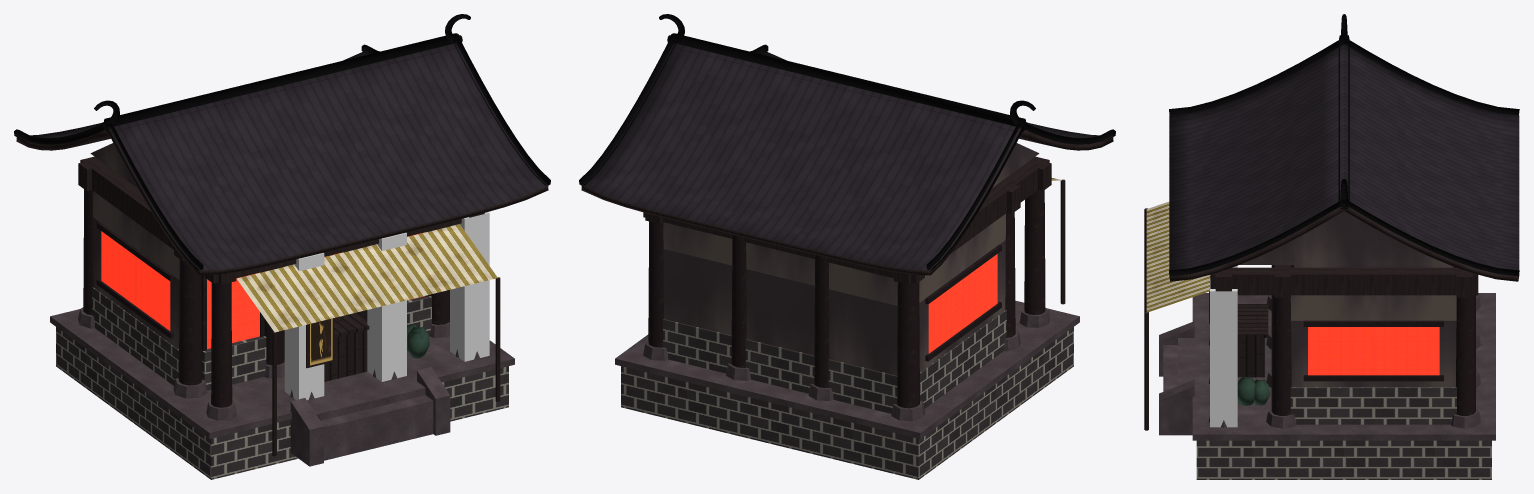
Rendered from shadow_stall.glb.
3 views of the same model, side by side, from view 1: azimuth 30°, elevation 25°; view 2: azimuth 150°, elevation 25°; view 3: azimuth 270°, elevation 25° (orthographic). The views are drawn at different scales.
Visible parts, largest first — view 1: Shop31Roof, Awning, Shop31PodiumBase, Shop31PodiumCap, Shop31Columns, Shop31RoofRidge, Shop31Stairsfront, Shop31Dado, Shop31Lattice, Shop31Beams, Shop31Walls, Shop31VCol-convcolonly.003 (+10 smaller); view 2: Shop31Roof, Shop31Walls, Shop31PodiumBase, Shop31Columns, Shop31Dado, Shop31PodiumCap, Shop31RoofRidge, Shop31Beams, Shop31Lattice, Shop31ColumnBases, Shop31Frames, AwningPoles (+1 smaller); view 3: Shop31Roof, Shop31PodiumBase, Shop31PodiumCap, Shop31Walls, Shop31Beams, Shop31Lattice, Shop31Dado, Shop31RoofRidge, Shop31Gables, Shop31Columns, Shop31VCol-convcolonly.003, Awning (+7 smaller).
Part boxes in pixels (box(x1,y1,x2,y2)): Shop31Roof: box(16, 43, 548, 275); Awning: box(237, 224, 497, 332); Shop31PodiumBase: box(56, 327, 508, 479); Shop31PodiumCap: box(50, 309, 514, 438); Shop31Columns: box(83, 189, 449, 407); Shop31RoofRidge: box(14, 14, 550, 270); Shop31Stairsfront: box(312, 382, 433, 460); Shop31Dado: box(92, 287, 431, 390); Shop31Lattice: box(101, 231, 424, 349); Shop31Beams: box(78, 156, 484, 284); Shop31Walls: box(93, 191, 179, 349); Shop31VCol-convcolonly.003: box(450, 212, 489, 361); Shop31Roof: box(581, 43, 1113, 275); Shop31Walls: box(663, 214, 1005, 375); Shop31PodiumBase: box(621, 327, 1073, 479); Shop31Columns: box(648, 190, 1045, 408); Shop31Dado: box(663, 310, 1006, 413); Shop31PodiumCap: box(615, 300, 1079, 438); Shop31RoofRidge: box(579, 14, 1115, 270); Shop31Beams: box(643, 156, 1051, 284); Shop31Lattice: box(928, 254, 997, 353); Shop31ColumnBases: box(643, 307, 1050, 421); Shop31Frames: box(925, 244, 1001, 361); AwningPoles: box(1060, 179, 1065, 304); Shop31Roof: box(1169, 43, 1519, 281); Shop31PodiumBase: box(1196, 440, 1491, 479); Shop31PodiumCap: box(1192, 293, 1495, 440); Shop31Walls: box(1290, 265, 1456, 387); Shop31Beams: box(1210, 265, 1478, 297); Shop31Lattice: box(1308, 327, 1439, 375); Shop31Dado: box(1290, 387, 1456, 424); Shop31RoofRidge: box(1169, 14, 1519, 276); Shop31Gables: box(1239, 211, 1448, 264); Shop31Columns: box(1271, 265, 1475, 415); Shop31VCol-convcolonly.003: box(1210, 280, 1237, 427); Awning: box(1146, 201, 1210, 312).
Size of what is drawn, in the model's own units: 9.1 by 7.6 by 8.26.
13 materials, 13 textured.
